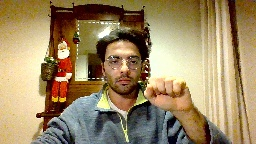Pugno: (140, 71, 195, 114)
